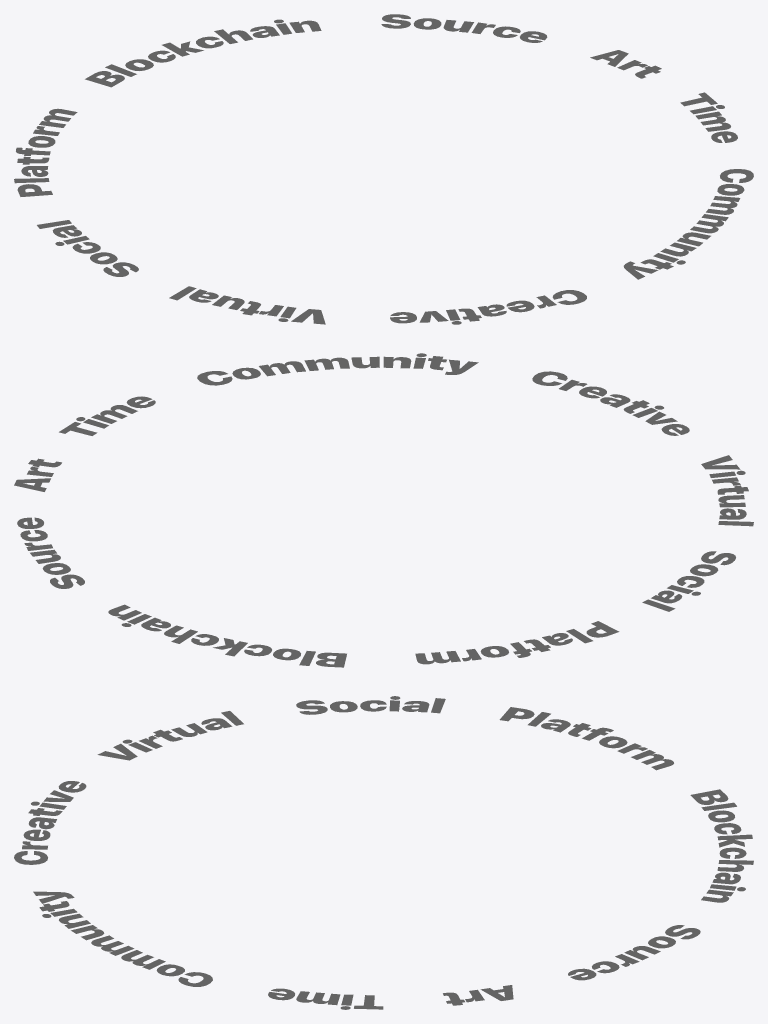
3 views of the same model, one above another, from view 1: azimuth 30°, elevation 25°; view 2: azimuth 150°, elevation 25°; view 3: azimuth 270°, elevation 25° (orthographic).
Parts seen in each view (by area): view 1: Text_B; view 2: Text_B; view 3: Text_B.
Part boxes in pixels (<box>): Text_B: <box>14,14,753,324</box>; Text_B: <box>14,353,753,667</box>; Text_B: <box>14,696,753,1009</box>.
Bounding box in the file's own units: 11.42 × 8.2e-08 × 11.38.
1 material, 1 textured.
